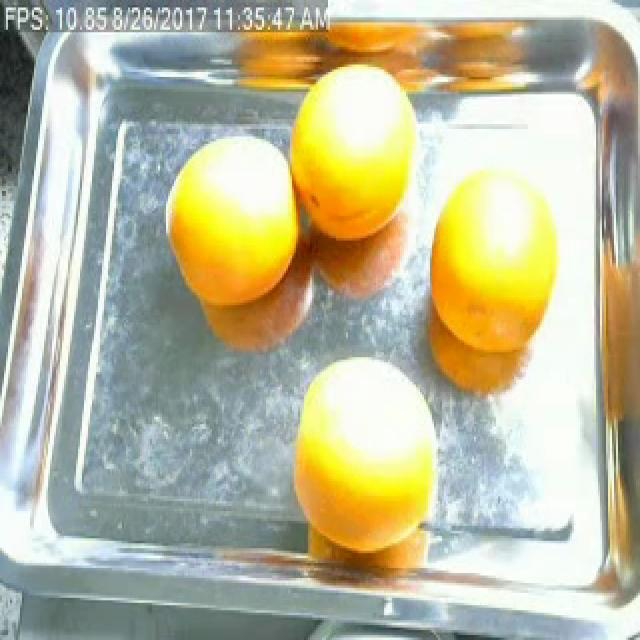Fruit: (152, 124, 312, 323)
